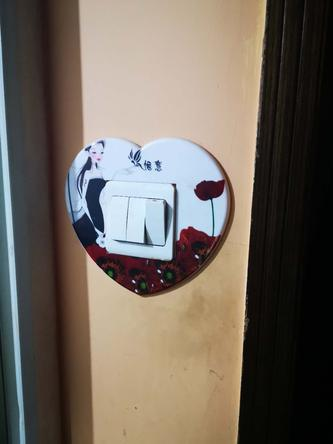switch: (145, 200, 167, 247), (127, 196, 142, 244), (108, 197, 123, 237)
